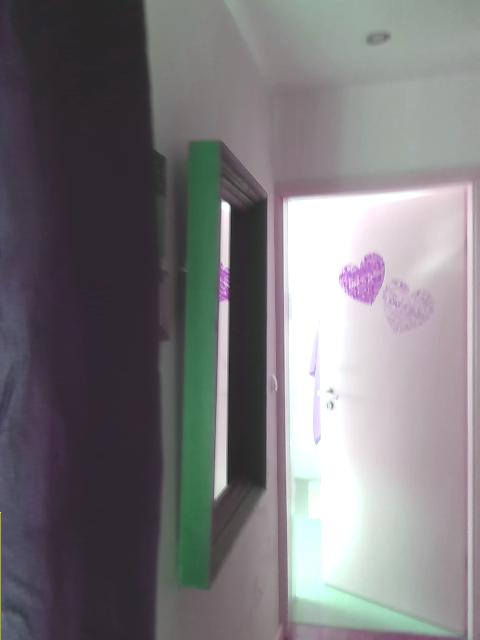semi_door: (273, 161, 479, 639)
